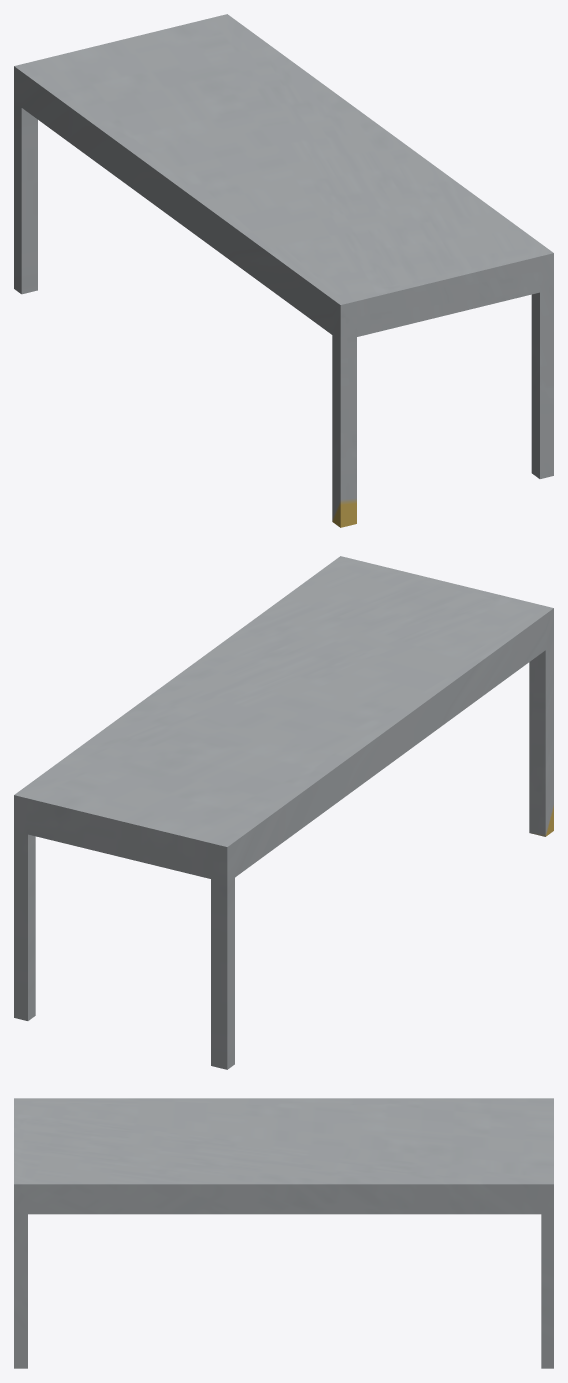
The model's file is Tutorial_table.fbx.
3 renders of one model, top to bottom at view 1: azimuth 30°, elevation 25°; view 2: azimuth 150°, elevation 25°; view 3: azimuth 270°, elevation 25°, orthographic. The views are drawn at different scales.
Visible parts, largest first — view 1: table; view 2: table; view 3: table.
Part boxes in pixels (<box>): table: <box>14,14,553,527</box>; table: <box>14,556,553,1069</box>; table: <box>14,1098,553,1368</box>.
Bounding box in the file's own units: 3.82 × 3.81 × 10.12.
1 material, 1 textured.
